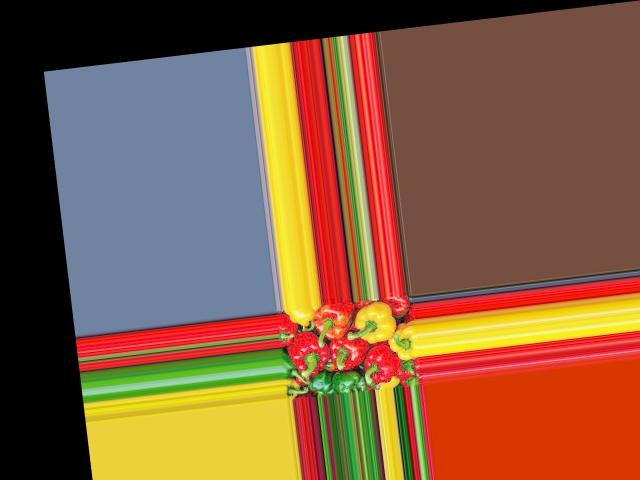bell_pepper: (288, 305, 314, 326)
